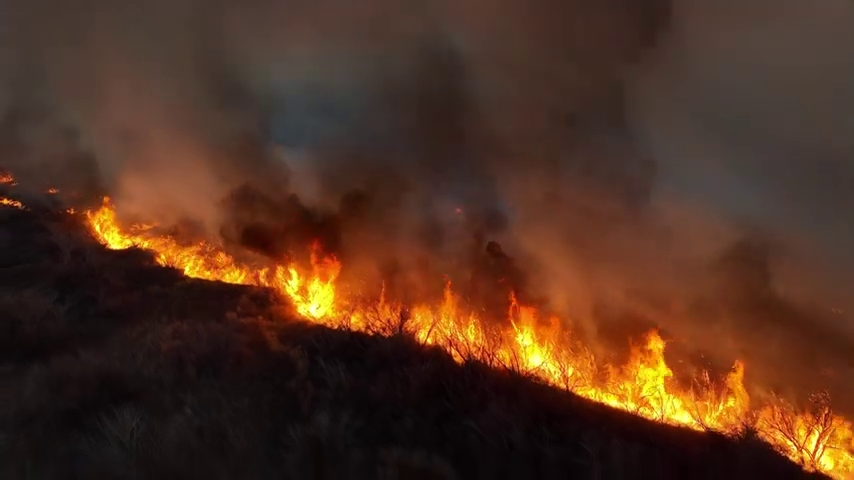forest_fire: (84, 197, 853, 477)
